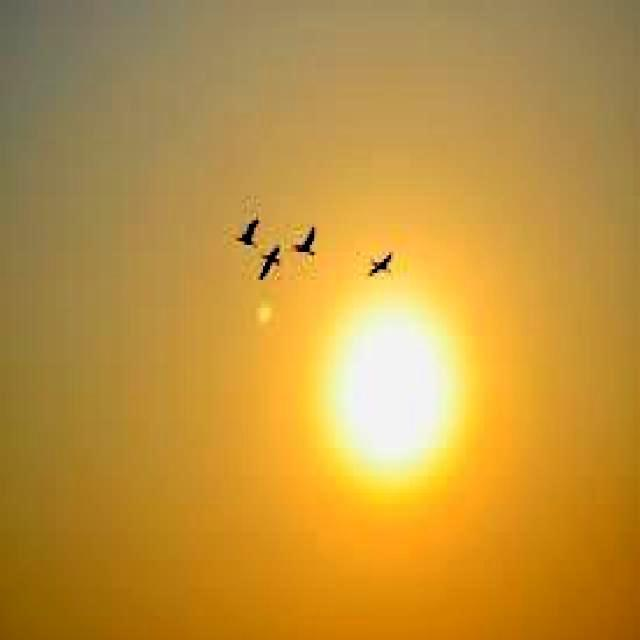bird: (290, 226, 328, 260), (256, 244, 286, 287), (367, 250, 398, 282), (228, 220, 260, 250)
